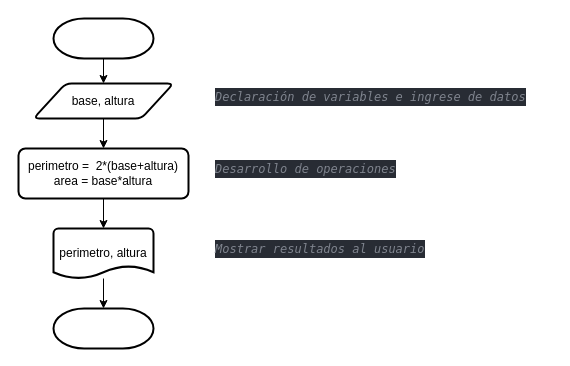
Image size: 570x366. Some labels were removed from this diagram. Each missing label, with the centre of its shape:
"Fin" belongs at point (103, 328).
"Inicio" belongs at point (103, 38).
